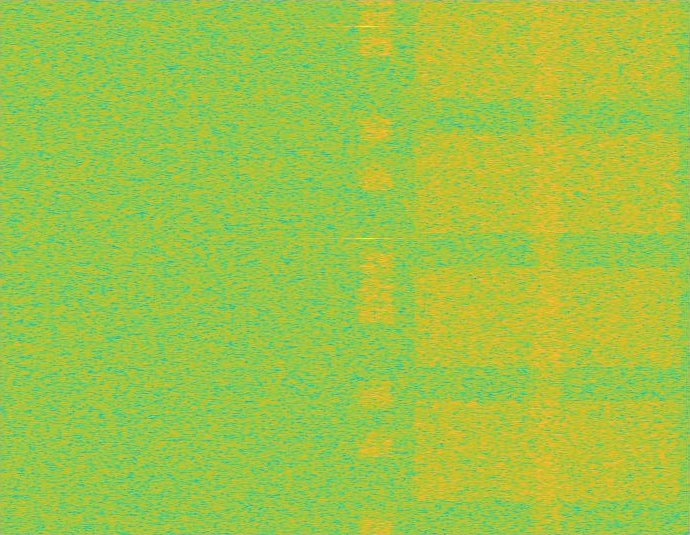5G: (409, 0, 685, 534)
DSSS: (529, 0, 566, 534)
LTE: (359, 0, 394, 534)
Radar: (360, 0, 374, 534)
